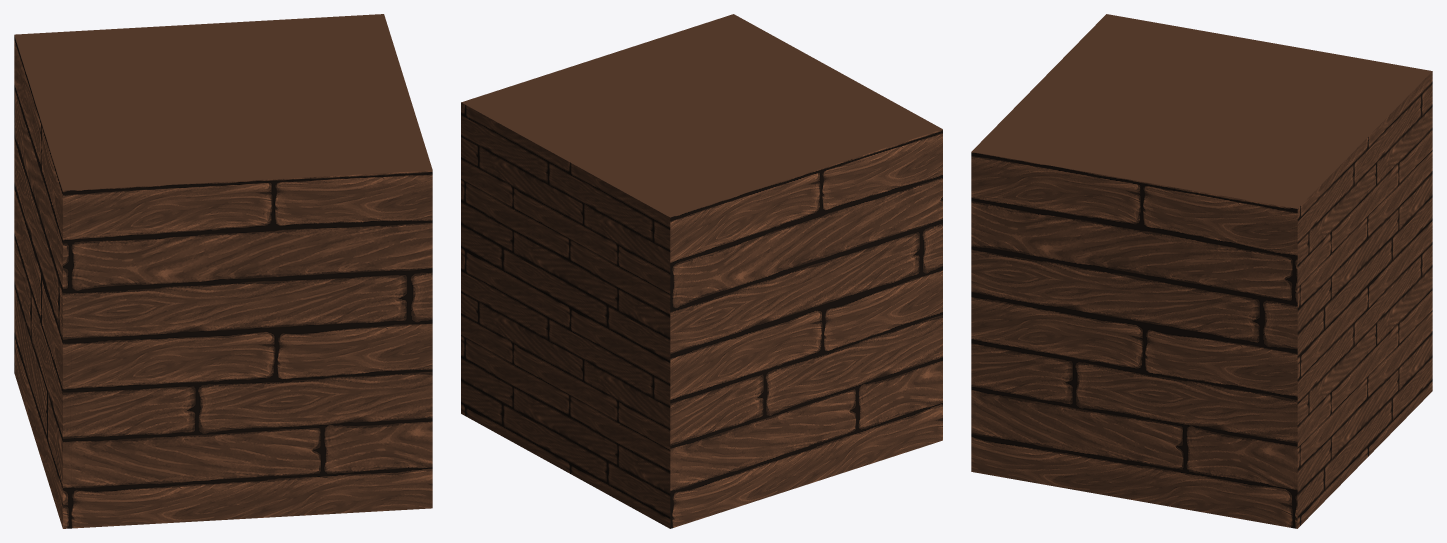
File: Muro_dritto2.fbx
The picture shows the model from 3 angles, left to right: view 1: azimuth 30°, elevation 25°; view 2: azimuth 150°, elevation 25°; view 3: azimuth 270°, elevation 25°; orthographic projection. The views are drawn at different scales.
Visible parts, largest first — view 1: Muro_dritto; view 2: Muro_dritto; view 3: Muro_dritto.
Part boxes in pixels (left/top/right/bottom): Muro_dritto: left=14, top=14, right=432, bottom=528; Muro_dritto: left=461, top=14, right=942, bottom=528; Muro_dritto: left=971, top=14, right=1432, bottom=528.
Bounding box in the file's own units: 261 × 200 × 261.
Materials: 2 (2 with a texture image).
